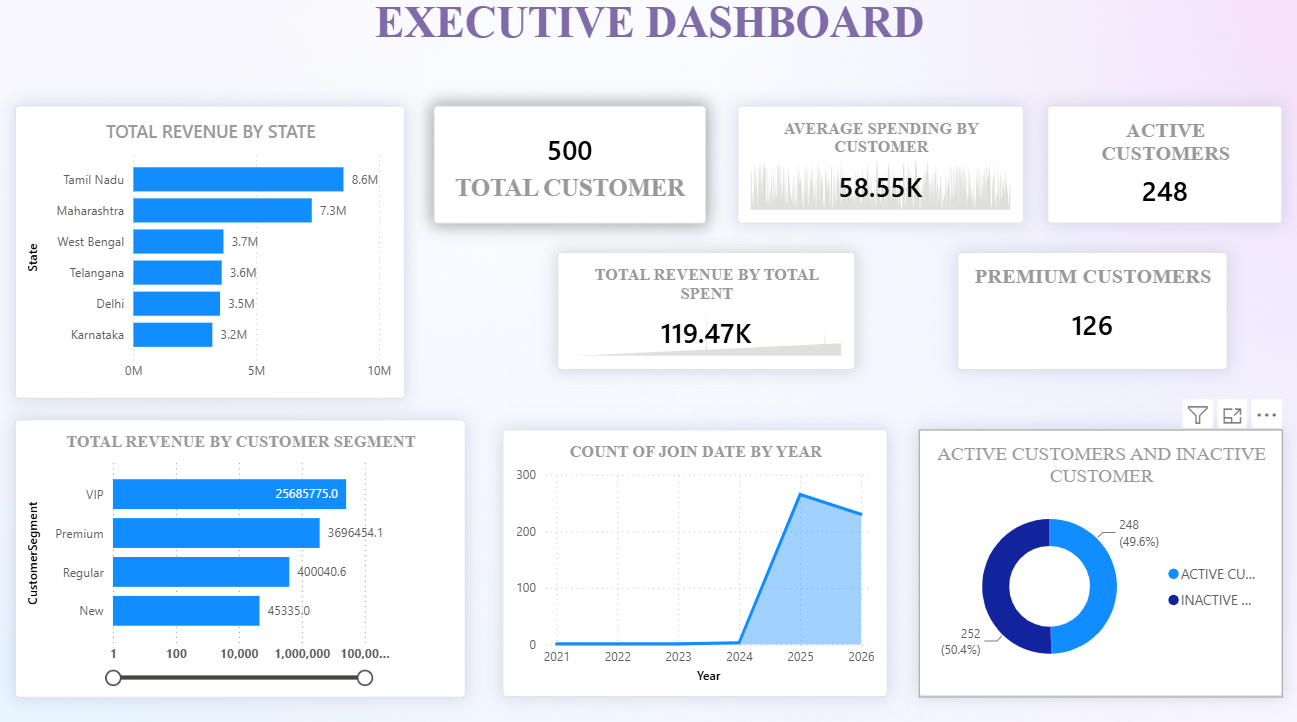

What the dashboard file says about the page in this screenshot:
{"tool":"powerbi","page":{"name":"Page 1","canvas":[1280,720],"ordinal":1},"visuals":[{"type":"textbox","box":[338.5,0,603,68.3],"z":0},{"type":"card","fields":{"Values":["customerdatacleaned.total"]},"box":[429.2,111.3,266.6,114.9],"z":1000},{"type":"kpi","title":"TOTAL REVENUE BY TOTAL SPENT","fields":{"Indicator":["customerdatacleaned.TOTAL REVENUE"],"TrendLine":["customerdatacleaned.TotalSpent"]},"box":[550.3,254.3,291,114.9],"z":2000},{"type":"kpi","title":"AVERAGE SPENDING BY CUSTOMER","fields":{"Indicator":["customerdatacleaned.AVERAGE SPENDING"],"TrendLine":["customerdatacleaned.CustomerId"]},"box":[726.8,110.9,280.2,115.2],"z":3000},{"type":"kpi","title":"ACTIVE CUSTOMERS ","fields":{"Indicator":["customerdatacleaned.ACTIVE CUSTOMERS"],"TrendLine":["customerdatacleaned.IsActive"]},"box":[1029.6,111.3,229.9,114.9],"z":4000},{"type":"kpi","title":"PREMIUM CUSTOMERS ","fields":{"Indicator":["customerdatacleaned.PREMIUM CUSTOMERS"],"TrendLine":["customerdatacleaned.CustomerSegment"]},"box":[941.6,254.3,264.1,114.9],"z":5000},{"type":"barChart","title":"TOTAL REVENUE BY CUSTOMER SEGMENT","fields":{"Category":["customerdatacleaned.CustomerSegment"],"Y":["customerdatacleaned.TOTAL REVENUE"]},"box":[19.9,418.1,440.9,271.6],"z":6000},{"type":"barChart","title":"TOTAL REVENUE BY STATE","fields":{"Category":["customerdatacleaned.State"],"Y":["customerdatacleaned.TOTAL REVENUE"]},"box":[19.6,111.3,381.5,286.1],"z":7000},{"type":"donutChart","title":"ACTIVE CUSTOMERS AND INACTIVE CUSTOMER","fields":{"Y":["customerdatacleaned.ACTIVE CUSTOMERS","customerdatacleaned.INACTIVE CUSTOMER"]},"box":[903.2,428.5,356.4,261.1],"z":8000},{"type":"lineChart","title":"COUNT OF JOIN DATE BY YEAR","fields":{"Y":["CountNonNull(customerdatacleaned.JoinDate)"],"Category":["customerdatacleaned.LastPurchaseDate.Variation.Date Hierarchy.Year"]},"box":[496.4,428.1,376.9,261.7],"z":9000}]}

Visuals, with their boxes in screenshot pixels (x1, y1, x2, y2), scaled from the page's 1280x720 canvas onto the 1297x722 screenshot:
textbox: bbox(343, 0, 954, 68)
card - customerdatacleaned.total: bbox(435, 112, 705, 227)
"TOTAL REVENUE BY TOTAL SPENT" kpi: bbox(558, 255, 852, 370)
"AVERAGE SPENDING BY CUSTOMER" kpi: bbox(736, 111, 1020, 227)
"ACTIVE CUSTOMERS " kpi: bbox(1043, 112, 1276, 227)
"PREMIUM CUSTOMERS " kpi: bbox(954, 255, 1222, 370)
"TOTAL REVENUE BY CUSTOMER SEGMENT" barChart: bbox(20, 419, 467, 692)
"TOTAL REVENUE BY STATE" barChart: bbox(20, 112, 406, 399)
"ACTIVE CUSTOMERS AND INACTIVE CUSTOMER" donutChart: bbox(915, 430, 1276, 692)
"COUNT OF JOIN DATE BY YEAR" lineChart: bbox(503, 429, 885, 692)
